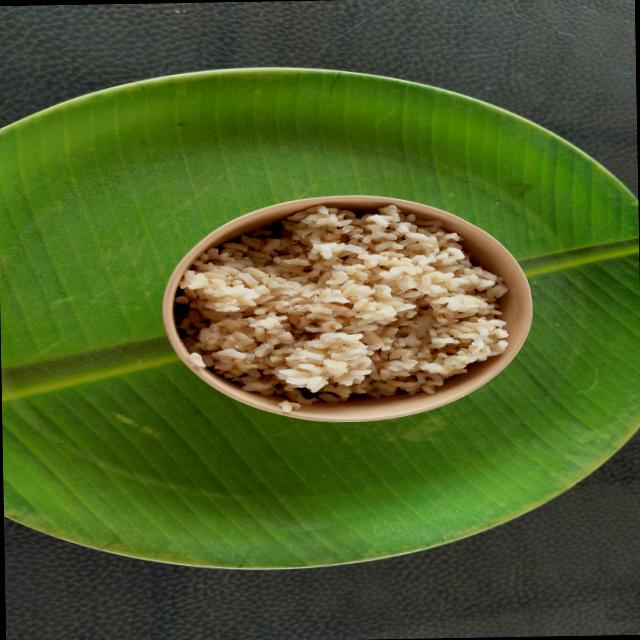brown-rice: (175, 205, 508, 408)
